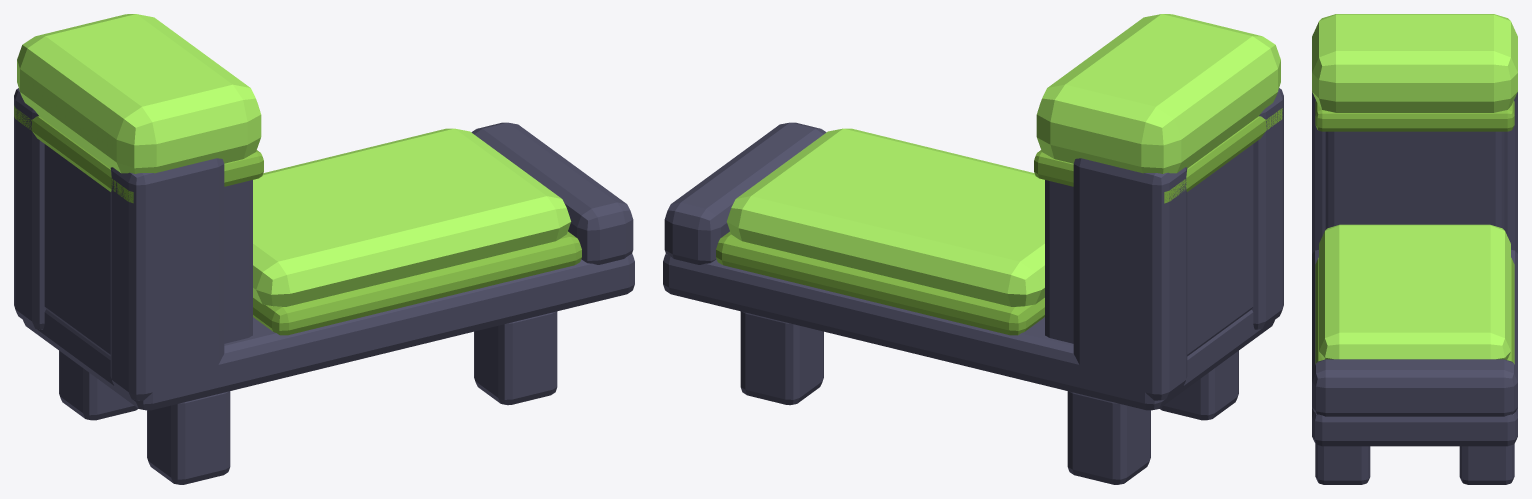
File: prop_chair.glb
The picture shows the model from 3 angles, left to right: view 1: azimuth 30°, elevation 25°; view 2: azimuth 150°, elevation 25°; view 3: azimuth 270°, elevation 25°; orthographic projection. The views are drawn at different scales.
Parts seen in each view (by area): view 1: Seat, BackTop, Post_R, SeatFrame, BackPanel, SeatPiping, SeatEnd, Leg_BR, Leg_FR, Post_L, BackPiping, Leg_BL; view 2: Seat, BackTop, Post_L, SeatFrame, BackPanel, SeatPiping, SeatEnd, Leg_BL, Leg_FL, Post_R, BackPiping, Leg_BR; view 3: Seat, BackTop, BackPanel, SeatEnd, SeatFrame, BackPiping, Leg_FL, Leg_FR, Post_L, Post_R, SeatPiping.
Part boxes in pixels (<box>): Seat: <box>253,128,571,306</box>; BackTop: <box>17,14,261,173</box>; Post_R: <box>110,158,224,400</box>; SeatFrame: <box>23,253,634,410</box>; BackPanel: <box>44,144,252,356</box>; SeatPiping: <box>253,231,581,335</box>; SeatEnd: <box>471,122,633,264</box>; Leg_BR: <box>147,391,230,484</box>; Leg_FR: <box>474,311,557,405</box>; Post_L: <box>14,88,45,329</box>; BackPiping: <box>14,105,263,203</box>; Leg_BL: <box>59,351,138,420</box>; Seat: <box>726,128,1044,306</box>; BackTop: <box>1036,14,1280,173</box>; Post_L: <box>1073,158,1187,400</box>; SeatFrame: <box>663,253,1274,410</box>; BackPanel: <box>1045,144,1253,356</box>; SeatPiping: <box>716,231,1044,335</box>; SeatEnd: <box>664,122,826,264</box>; Leg_BL: <box>1067,391,1150,484</box>; Leg_FL: <box>740,311,823,405</box>; Post_R: <box>1252,88,1283,329</box>; BackPiping: <box>1034,108,1282,203</box>; Leg_BR: <box>1159,351,1238,420</box>; Seat: <box>1319,224,1510,359</box>; BackTop: <box>1312,14,1517,112</box>; BackPanel: <box>1325,131,1504,229</box>; SeatEnd: <box>1312,359,1517,416</box>; SeatFrame: <box>1312,250,1517,446</box>; BackPiping: <box>1315,101,1514,131</box>; Leg_FL: <box>1459,444,1514,484</box>; Leg_FR: <box>1315,444,1370,484</box>; Post_L: <box>1504,92,1517,253</box>; Post_R: <box>1312,92,1325,253</box>; SeatPiping: <box>1315,257,1514,364</box>.
Bounding box in the file's own units: 0.875 × 0.625 × 0.375.
